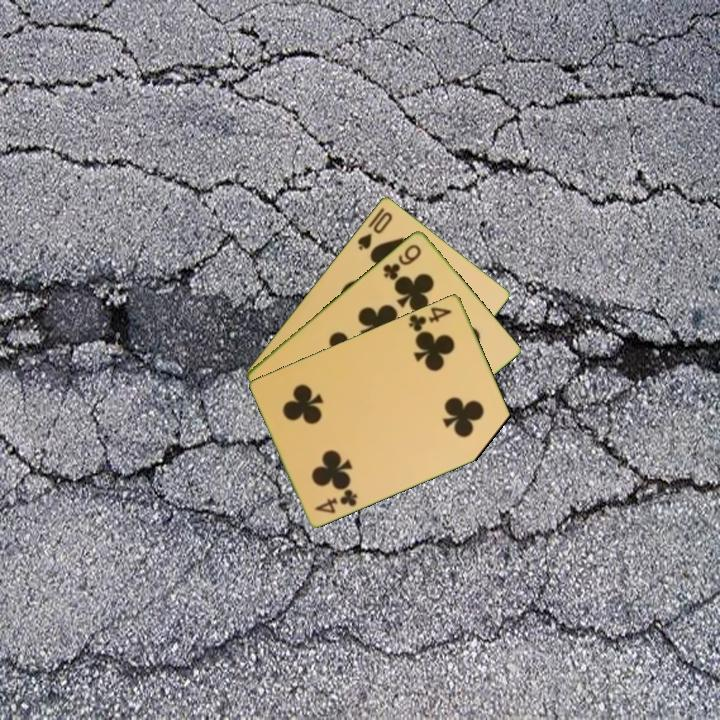10s: (354, 208, 396, 253)
4c: (405, 303, 455, 335), (311, 485, 361, 516)
9c: (379, 240, 424, 283)
